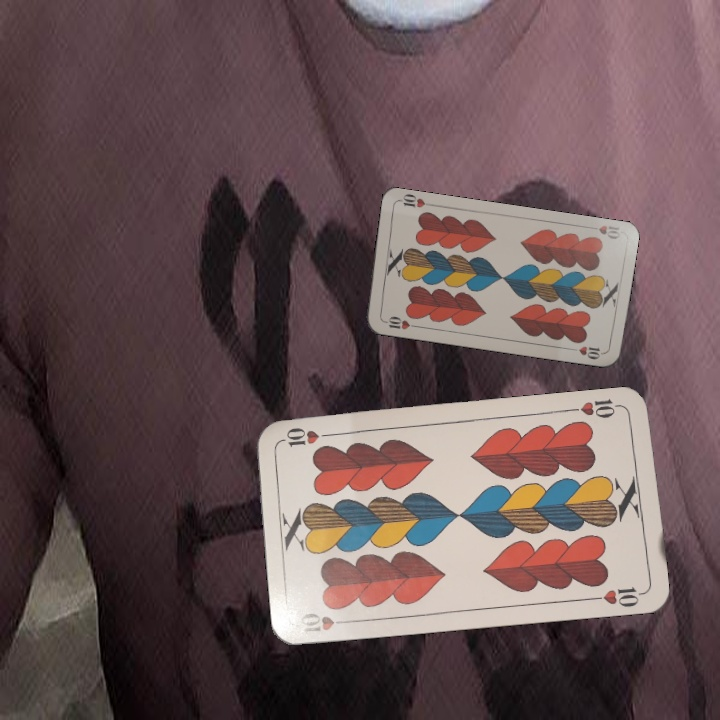H10: (296, 608, 355, 637), (567, 395, 627, 421), (583, 221, 623, 242), (379, 312, 419, 332)
